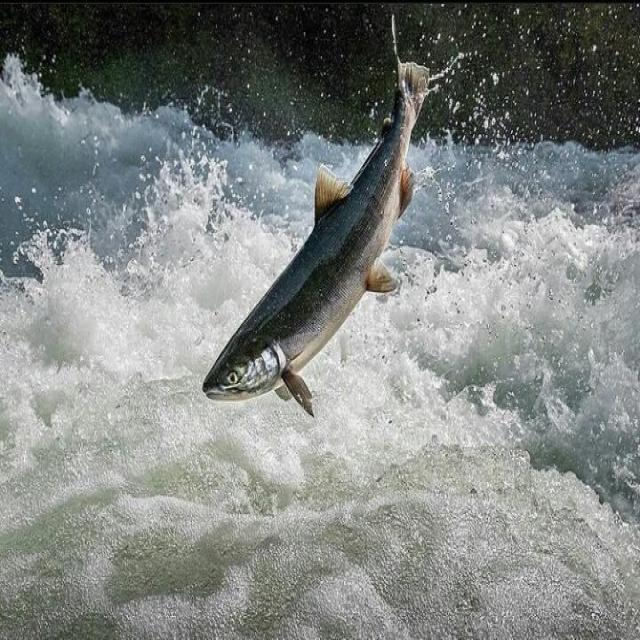grouper: (192, 11, 458, 444)
